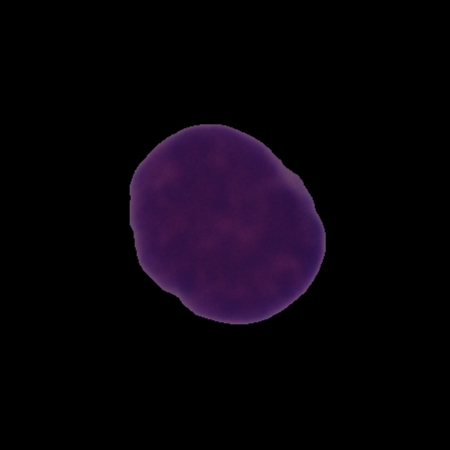ALL: (124, 120, 330, 327)
